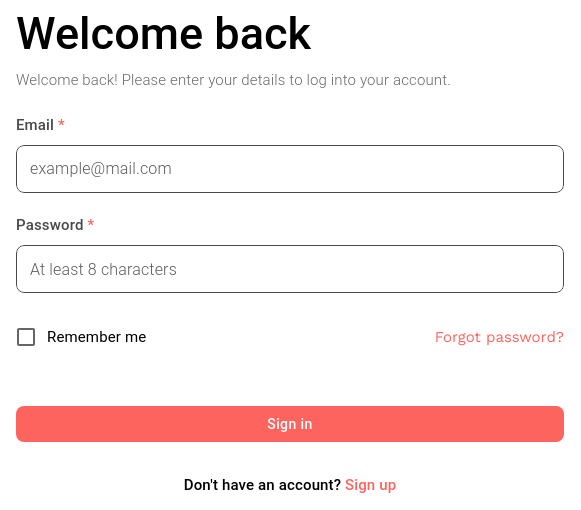
SignIn Page › shows server error on unverified email
The width and height of the screenshot is (581, 510).
Type "correctButUnverified@mail.com" into the field labelled "Email" at (290, 169), box [16, 141, 564, 197]
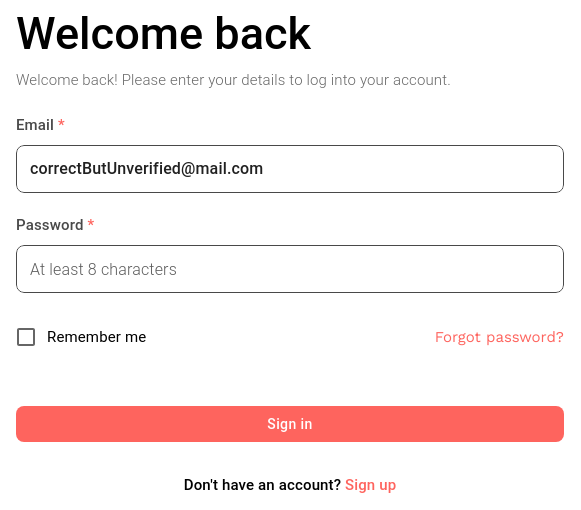
Type "12341234bestpassword" into the password field labelled "Password" at (290, 269), box [16, 241, 564, 297]
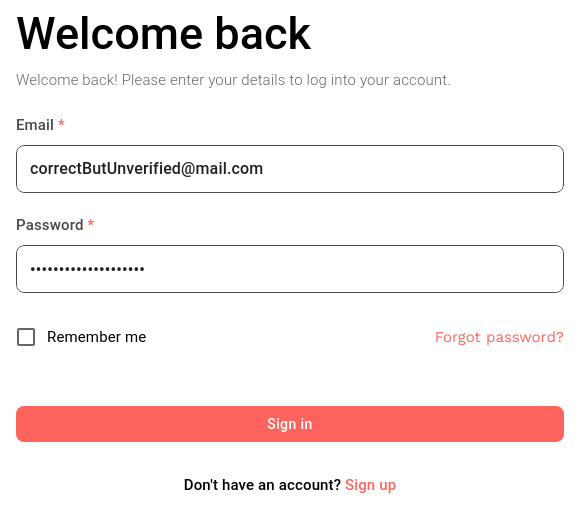
Click the button "Sign in" at (290, 424), box [16, 406, 564, 442]
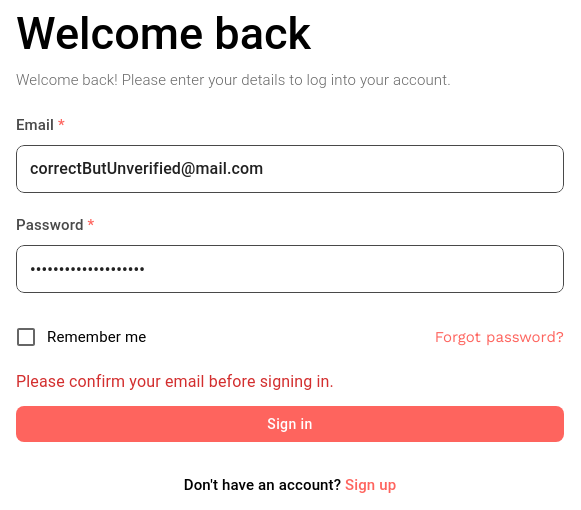
Expected: the message reads "Please confirm your email before signing in.", [16, 372, 334, 391]
